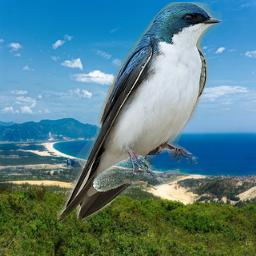Swallow: (57, 2, 222, 225)
